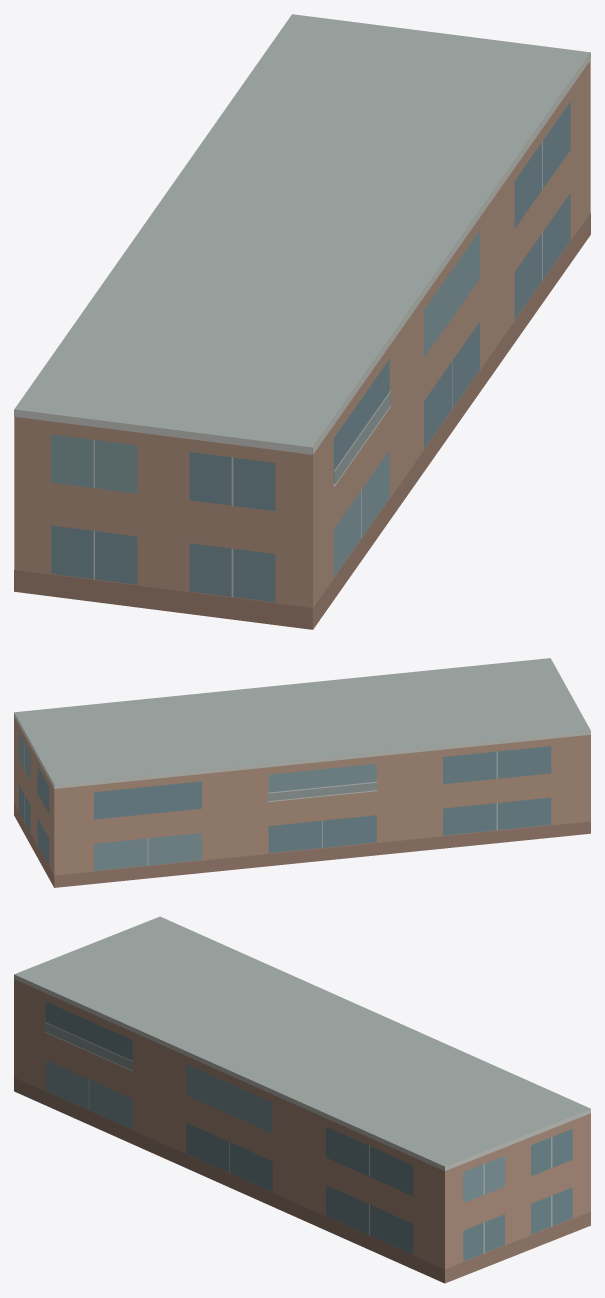
File: survey-upis-32627330.glb
3 views of the same model, one above another, from view 1: azimuth 30°, elevation 25°; view 2: azimuth 150°, elevation 25°; view 3: azimuth 270°, elevation 25° (orthographic). The views are drawn at different scales.
Parts seen in each view (by area): view 1: survey-upis-32627330.tmp; view 2: survey-upis-32627330.tmp; view 3: survey-upis-32627330.tmp.
Part boxes in pixels (left/top/right/bottom): survey-upis-32627330.tmp: left=14, top=14, right=590, bottom=629; survey-upis-32627330.tmp: left=14, top=658, right=590, bottom=887; survey-upis-32627330.tmp: left=14, top=916, right=590, bottom=1283.
Size of the model in its own units: 27.98 by 6.1 by 27.27.
